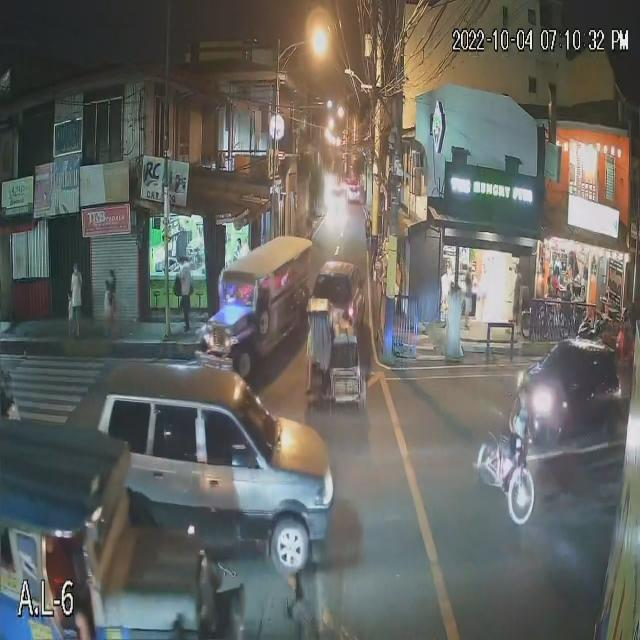0 motorcycle: (577, 319, 612, 355)
